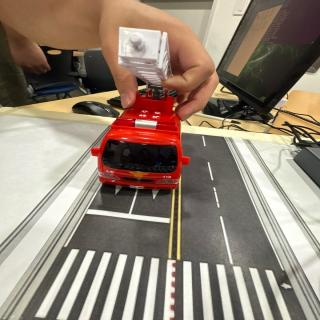Fire_truck: (92, 89, 189, 189)
